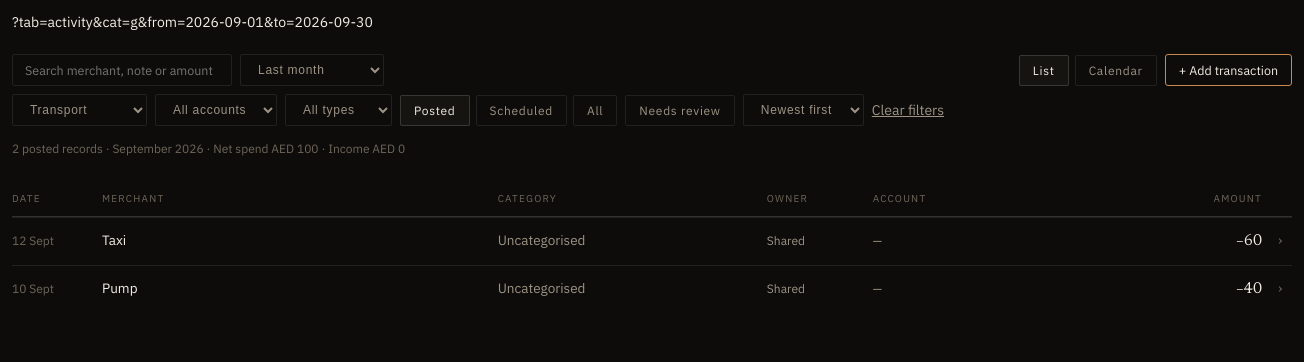
Activity filters in the address › shows the date range in the date select, which clears it
Select "All dates" in the dropdown named "Dates" at (312, 70), box [240,54,384,86]
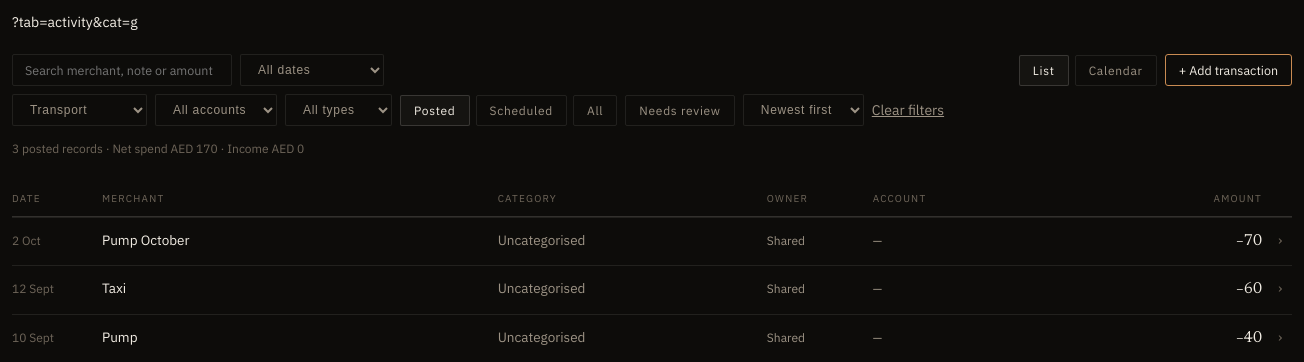
Expected: the text with test id "location" reads "?tab=activity&cat=g", [12,13,138,31]
Result: the text "Pump October" is shown at [102,231,190,249]
